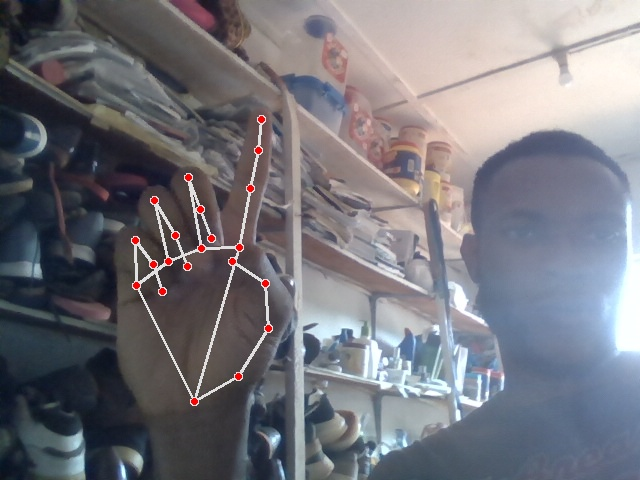number1: (114, 107, 292, 422)
